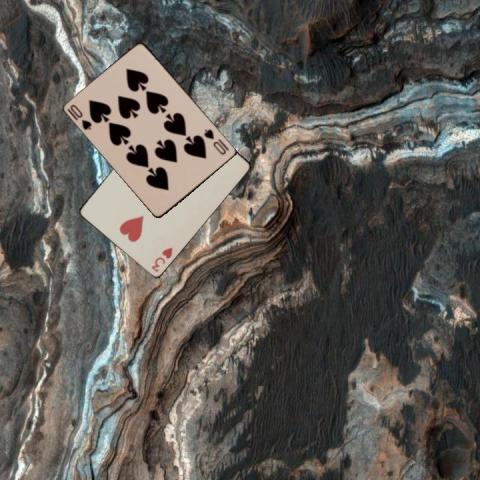10s: (201, 126, 228, 157), (68, 102, 93, 132)
3h: (148, 244, 174, 273)
